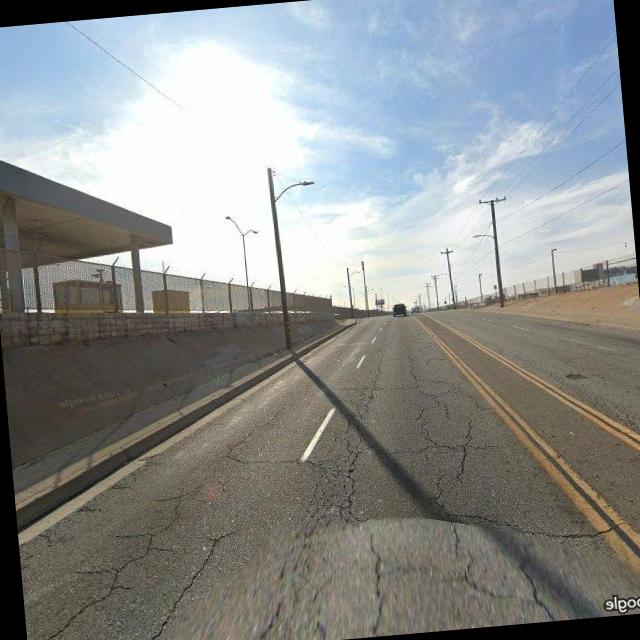crack: (20, 340, 633, 640)
